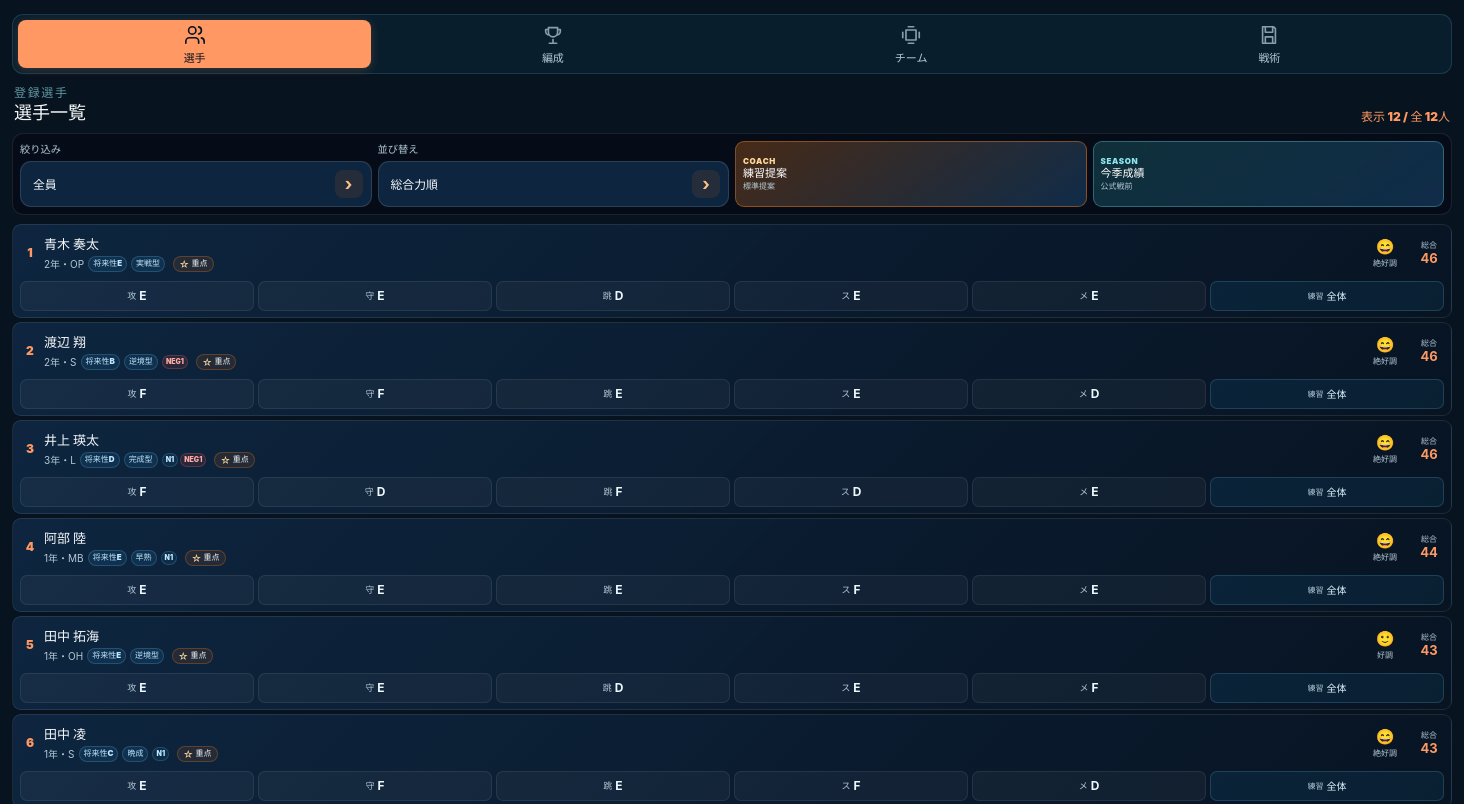
Test: PlayerHubScreen › shows official career records in the player detail record tab
Click the button "田中 拓海" at x=72, y=635, box top-left (38, 621), bottom-right (105, 649)
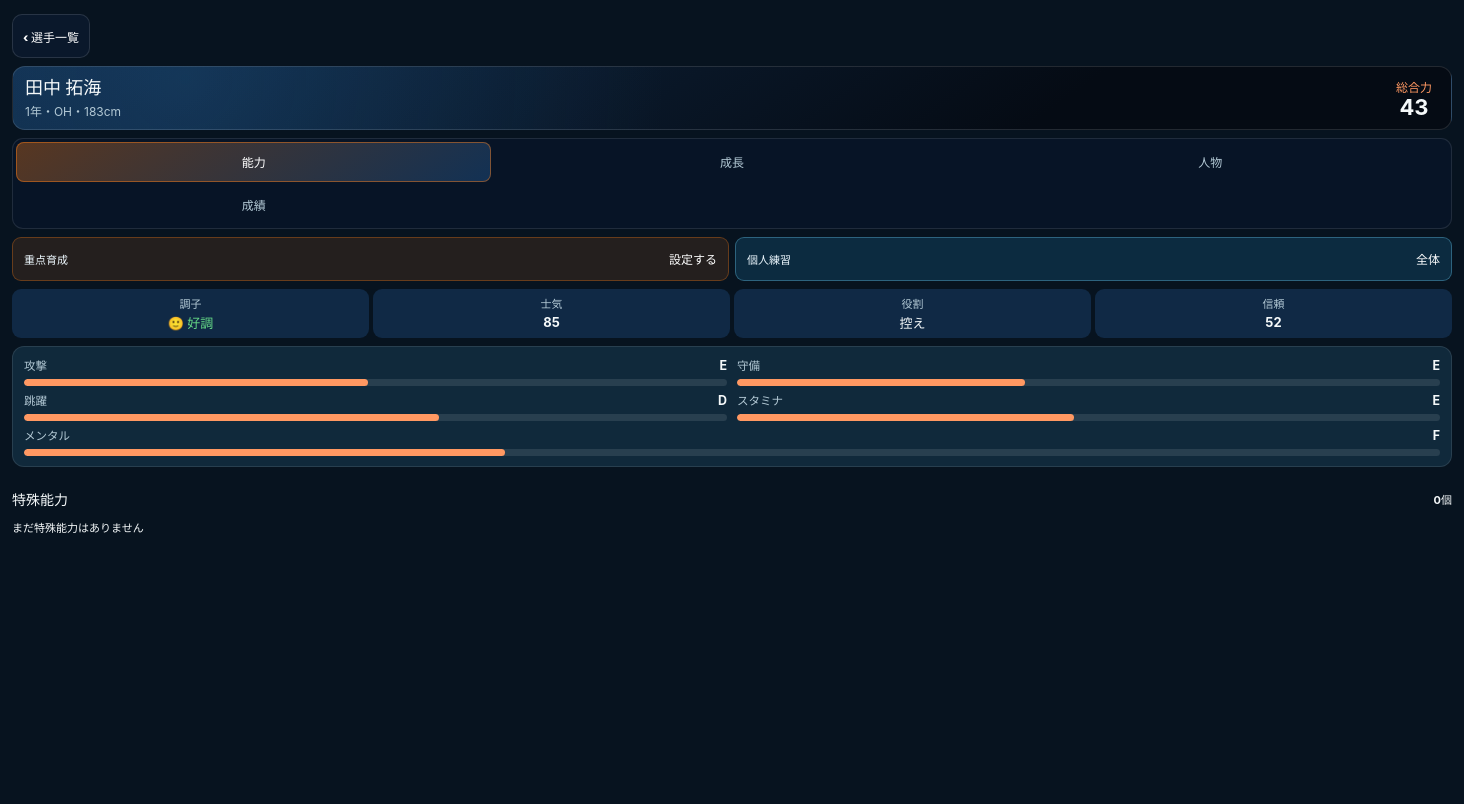
Click the button "成績" at x=254, y=205, box top-left (16, 185), bottom-right (491, 225)
(page scrolled)
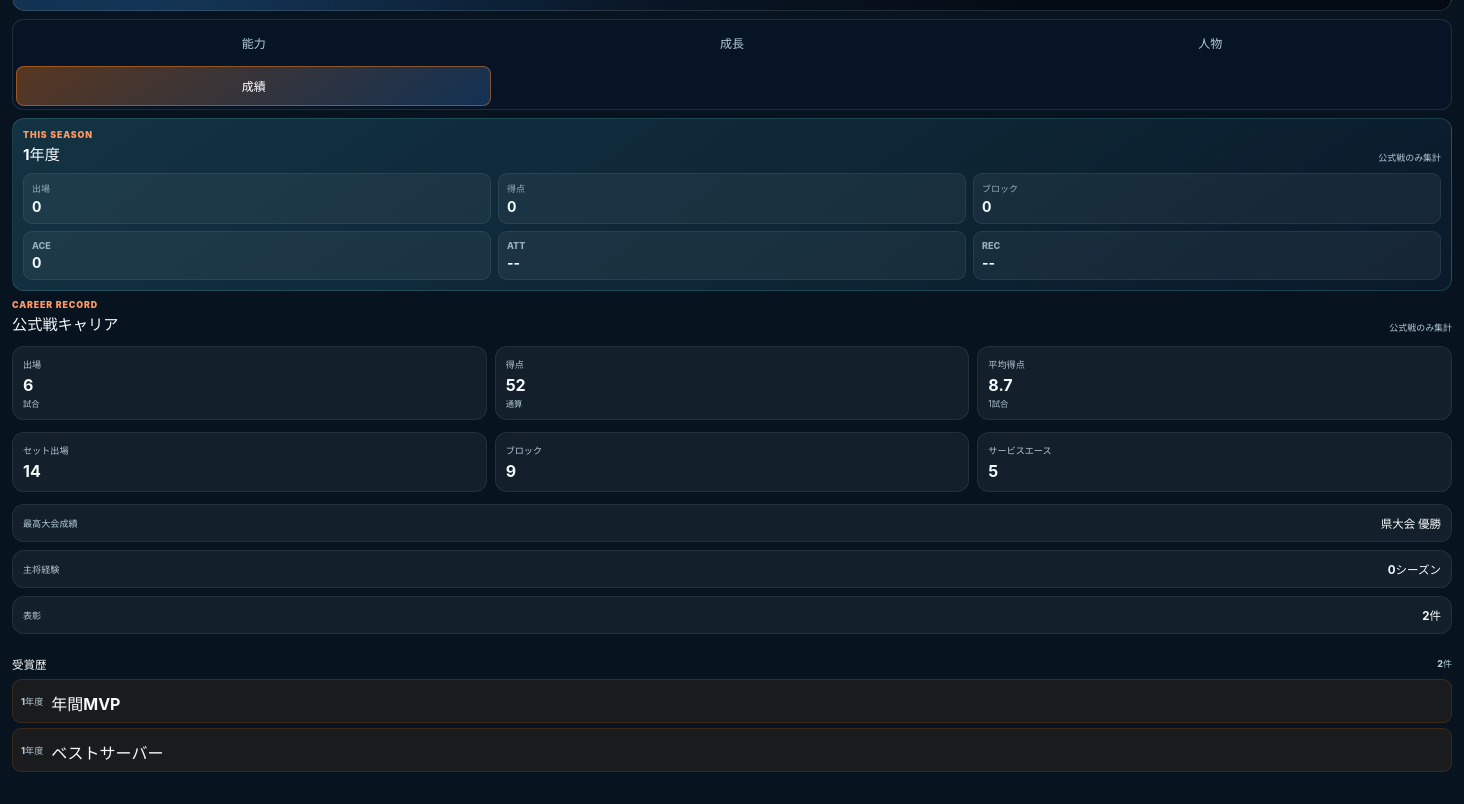
expect the text "52" is shown: met, box top-left (506, 375), bottom-right (526, 395)
expect the heading "公式戦キャリア" is shown: met, box top-left (12, 312), bottom-right (118, 334)
expect the text "県大会 優勝" is shown: met, box top-left (1381, 515), bottom-right (1441, 531)
